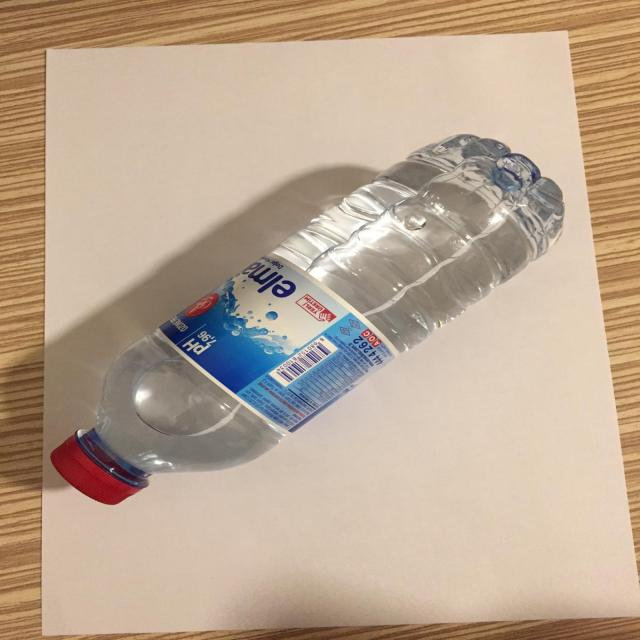bottle: (78, 140, 546, 471)
